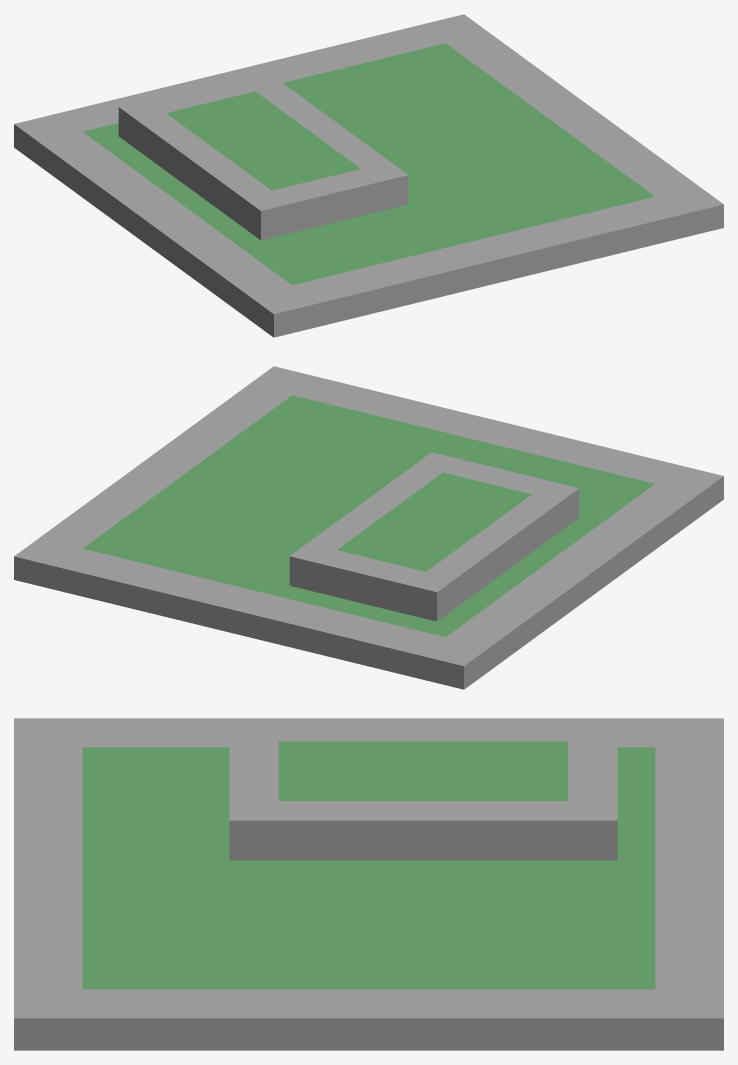
File: park.fbx
The picture shows the model from 3 angles, top to bottom: view 1: azimuth 30°, elevation 25°; view 2: azimuth 150°, elevation 25°; view 3: azimuth 270°, elevation 25°; orthographic projection. The views are drawn at different scales.
Parts seen in each view (by area): view 1: park; view 2: park; view 3: park.
Part boxes in pixels (<box>): park: <box>14,14,723,337</box>; park: <box>14,366,723,689</box>; park: <box>14,718,723,1050</box>.
Bounding box in the file's own units: 0.7 × 0.0787 × 0.7.
